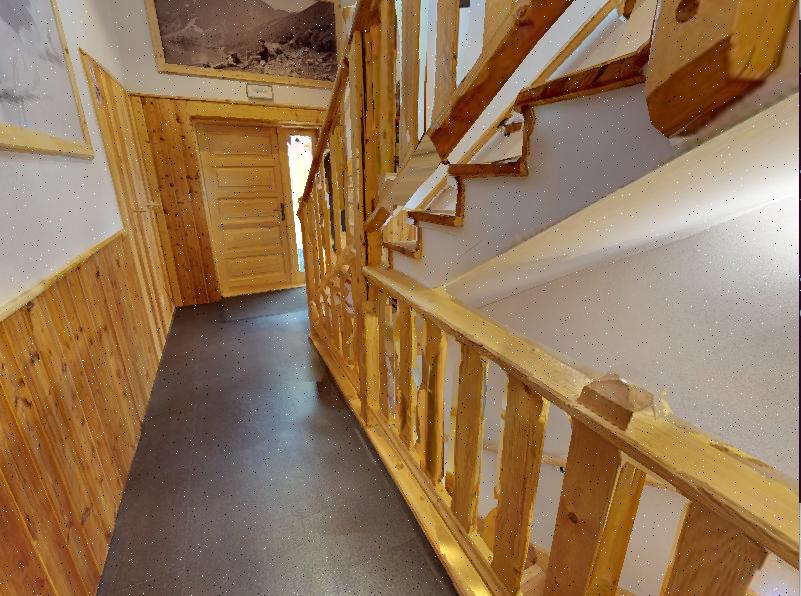door: (181, 119, 295, 302)
stairs: (287, 0, 801, 596)
